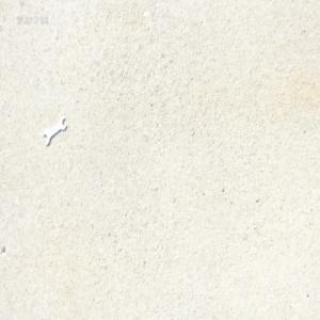Wrenchtrack_idkeyframe: (40, 114, 65, 147)
